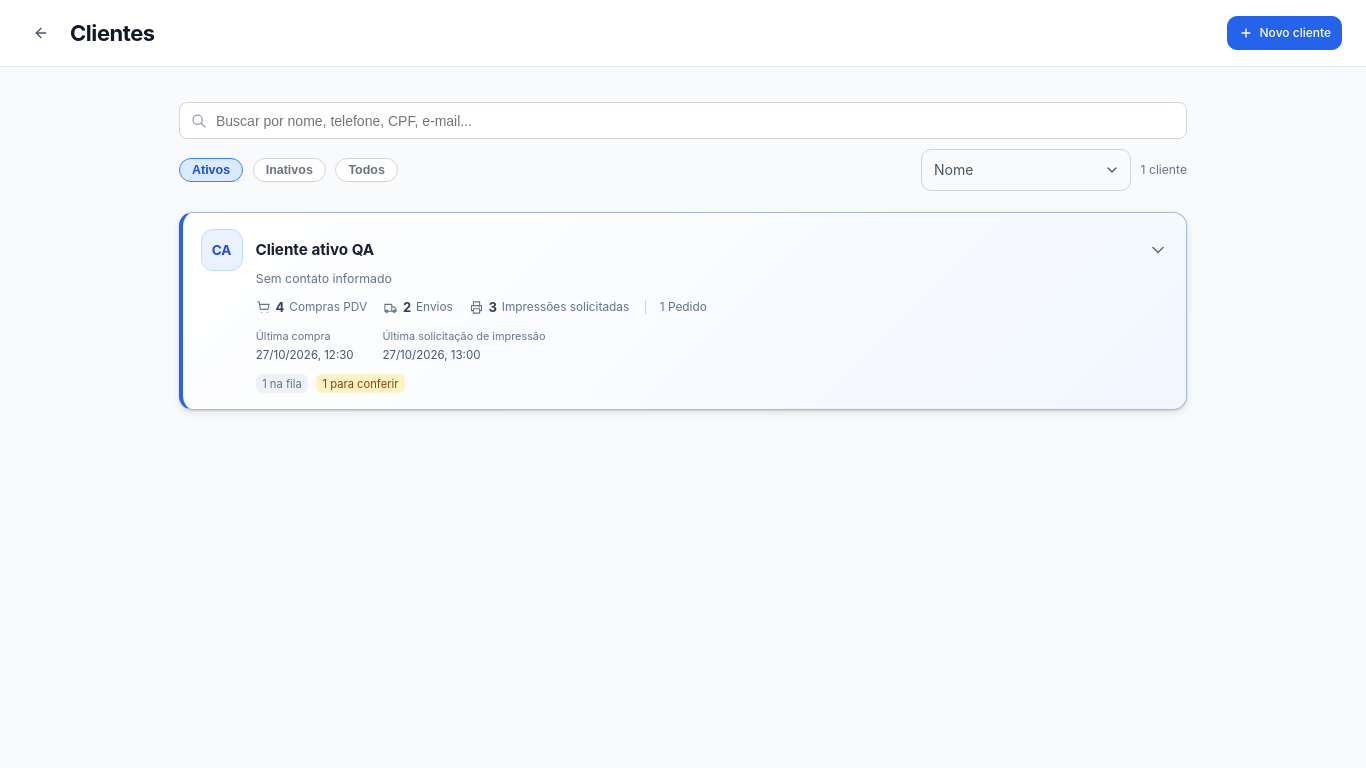
Test case: Customer status filters › queries active, inactive and all customers explicitly and shows their respective records
Expected: the number of elements with class "cliente-wrap" is 1, 179,212 -> 1187,410
Step 1. Click the button "Inativos" → (289, 170), box 253,158 -> 326,182
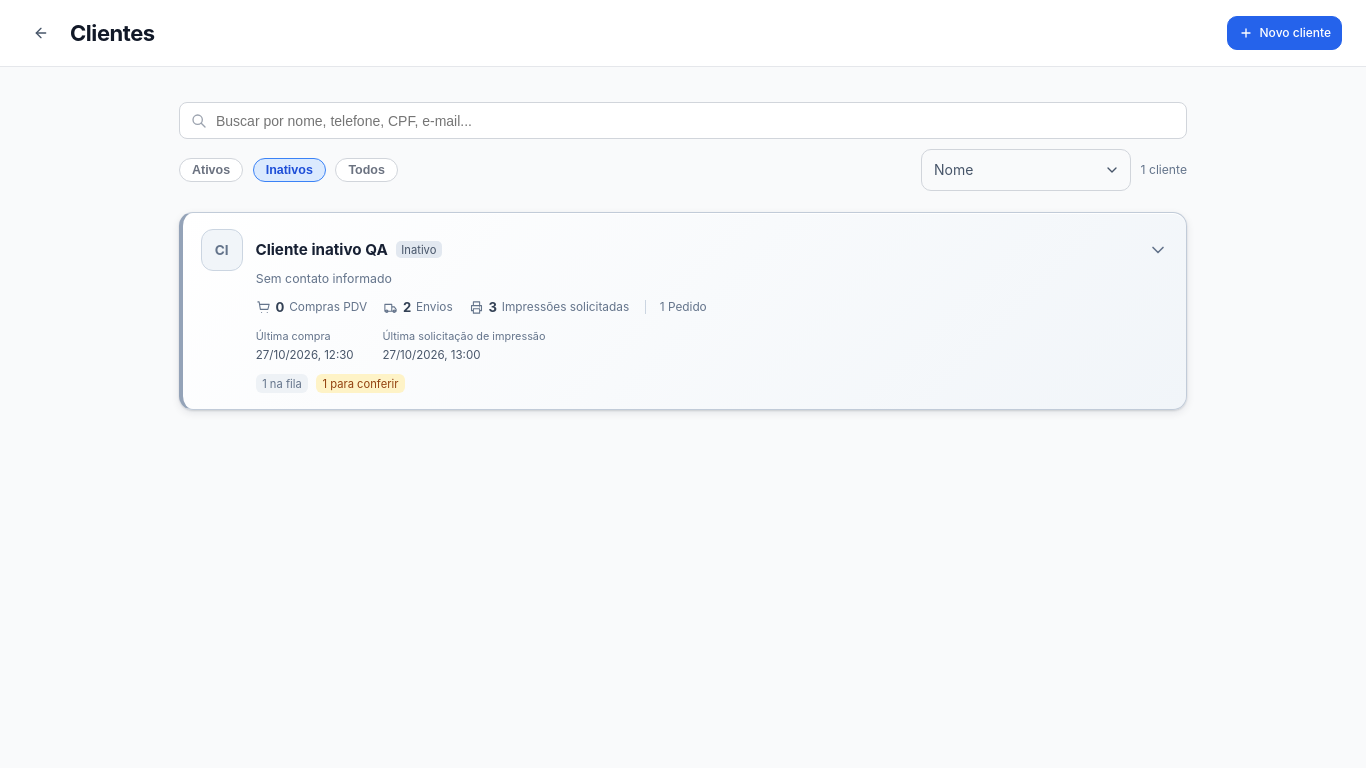
Expected: the text with class "cliente-name" reads "Cliente inativo QA", 255,240 -> 388,259
Expected: the element with class "inactive" is shown, 183,213 -> 1186,409
Step 2. Click the button "Todos" → (367, 170), box 335,158 -> 398,182
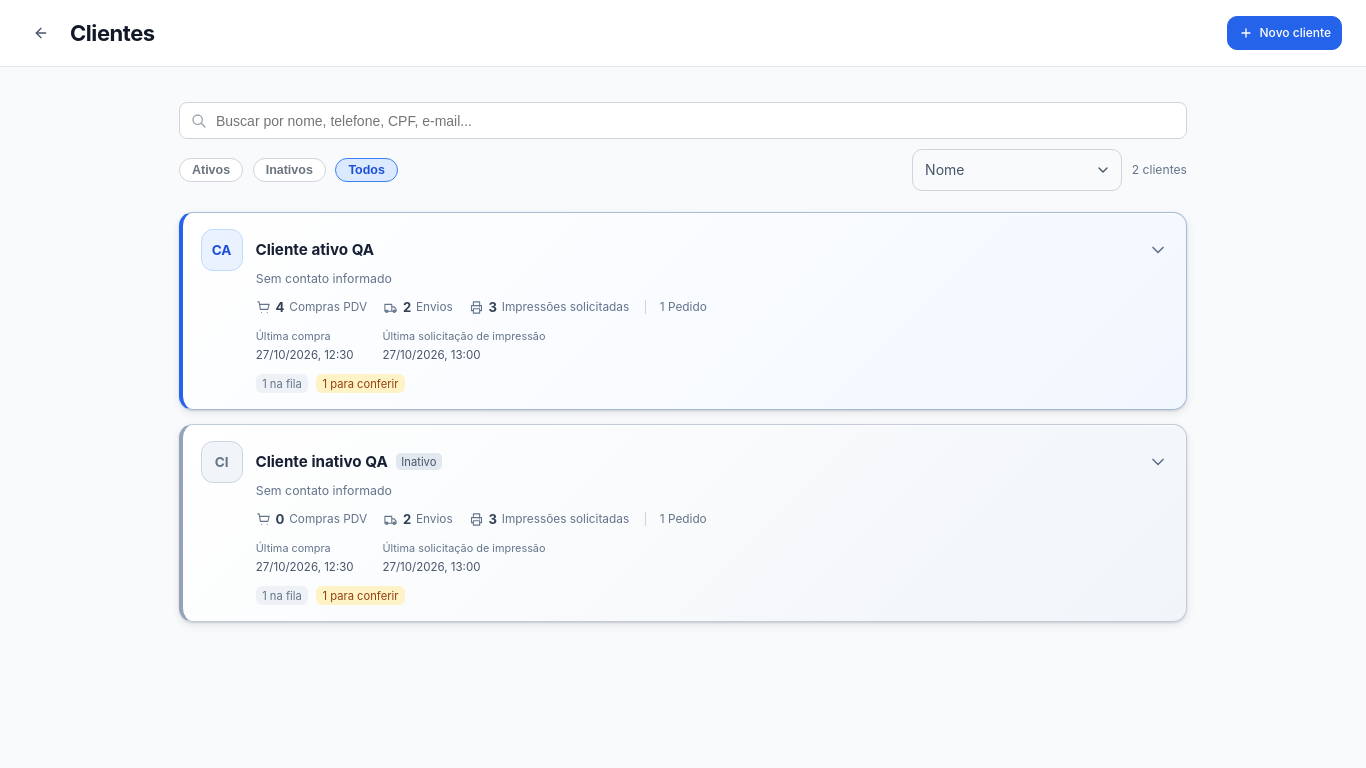
Expected: the number of elements with class "cliente-wrap" is 2, 179,212 -> 1187,410; 179,424 -> 1187,622
